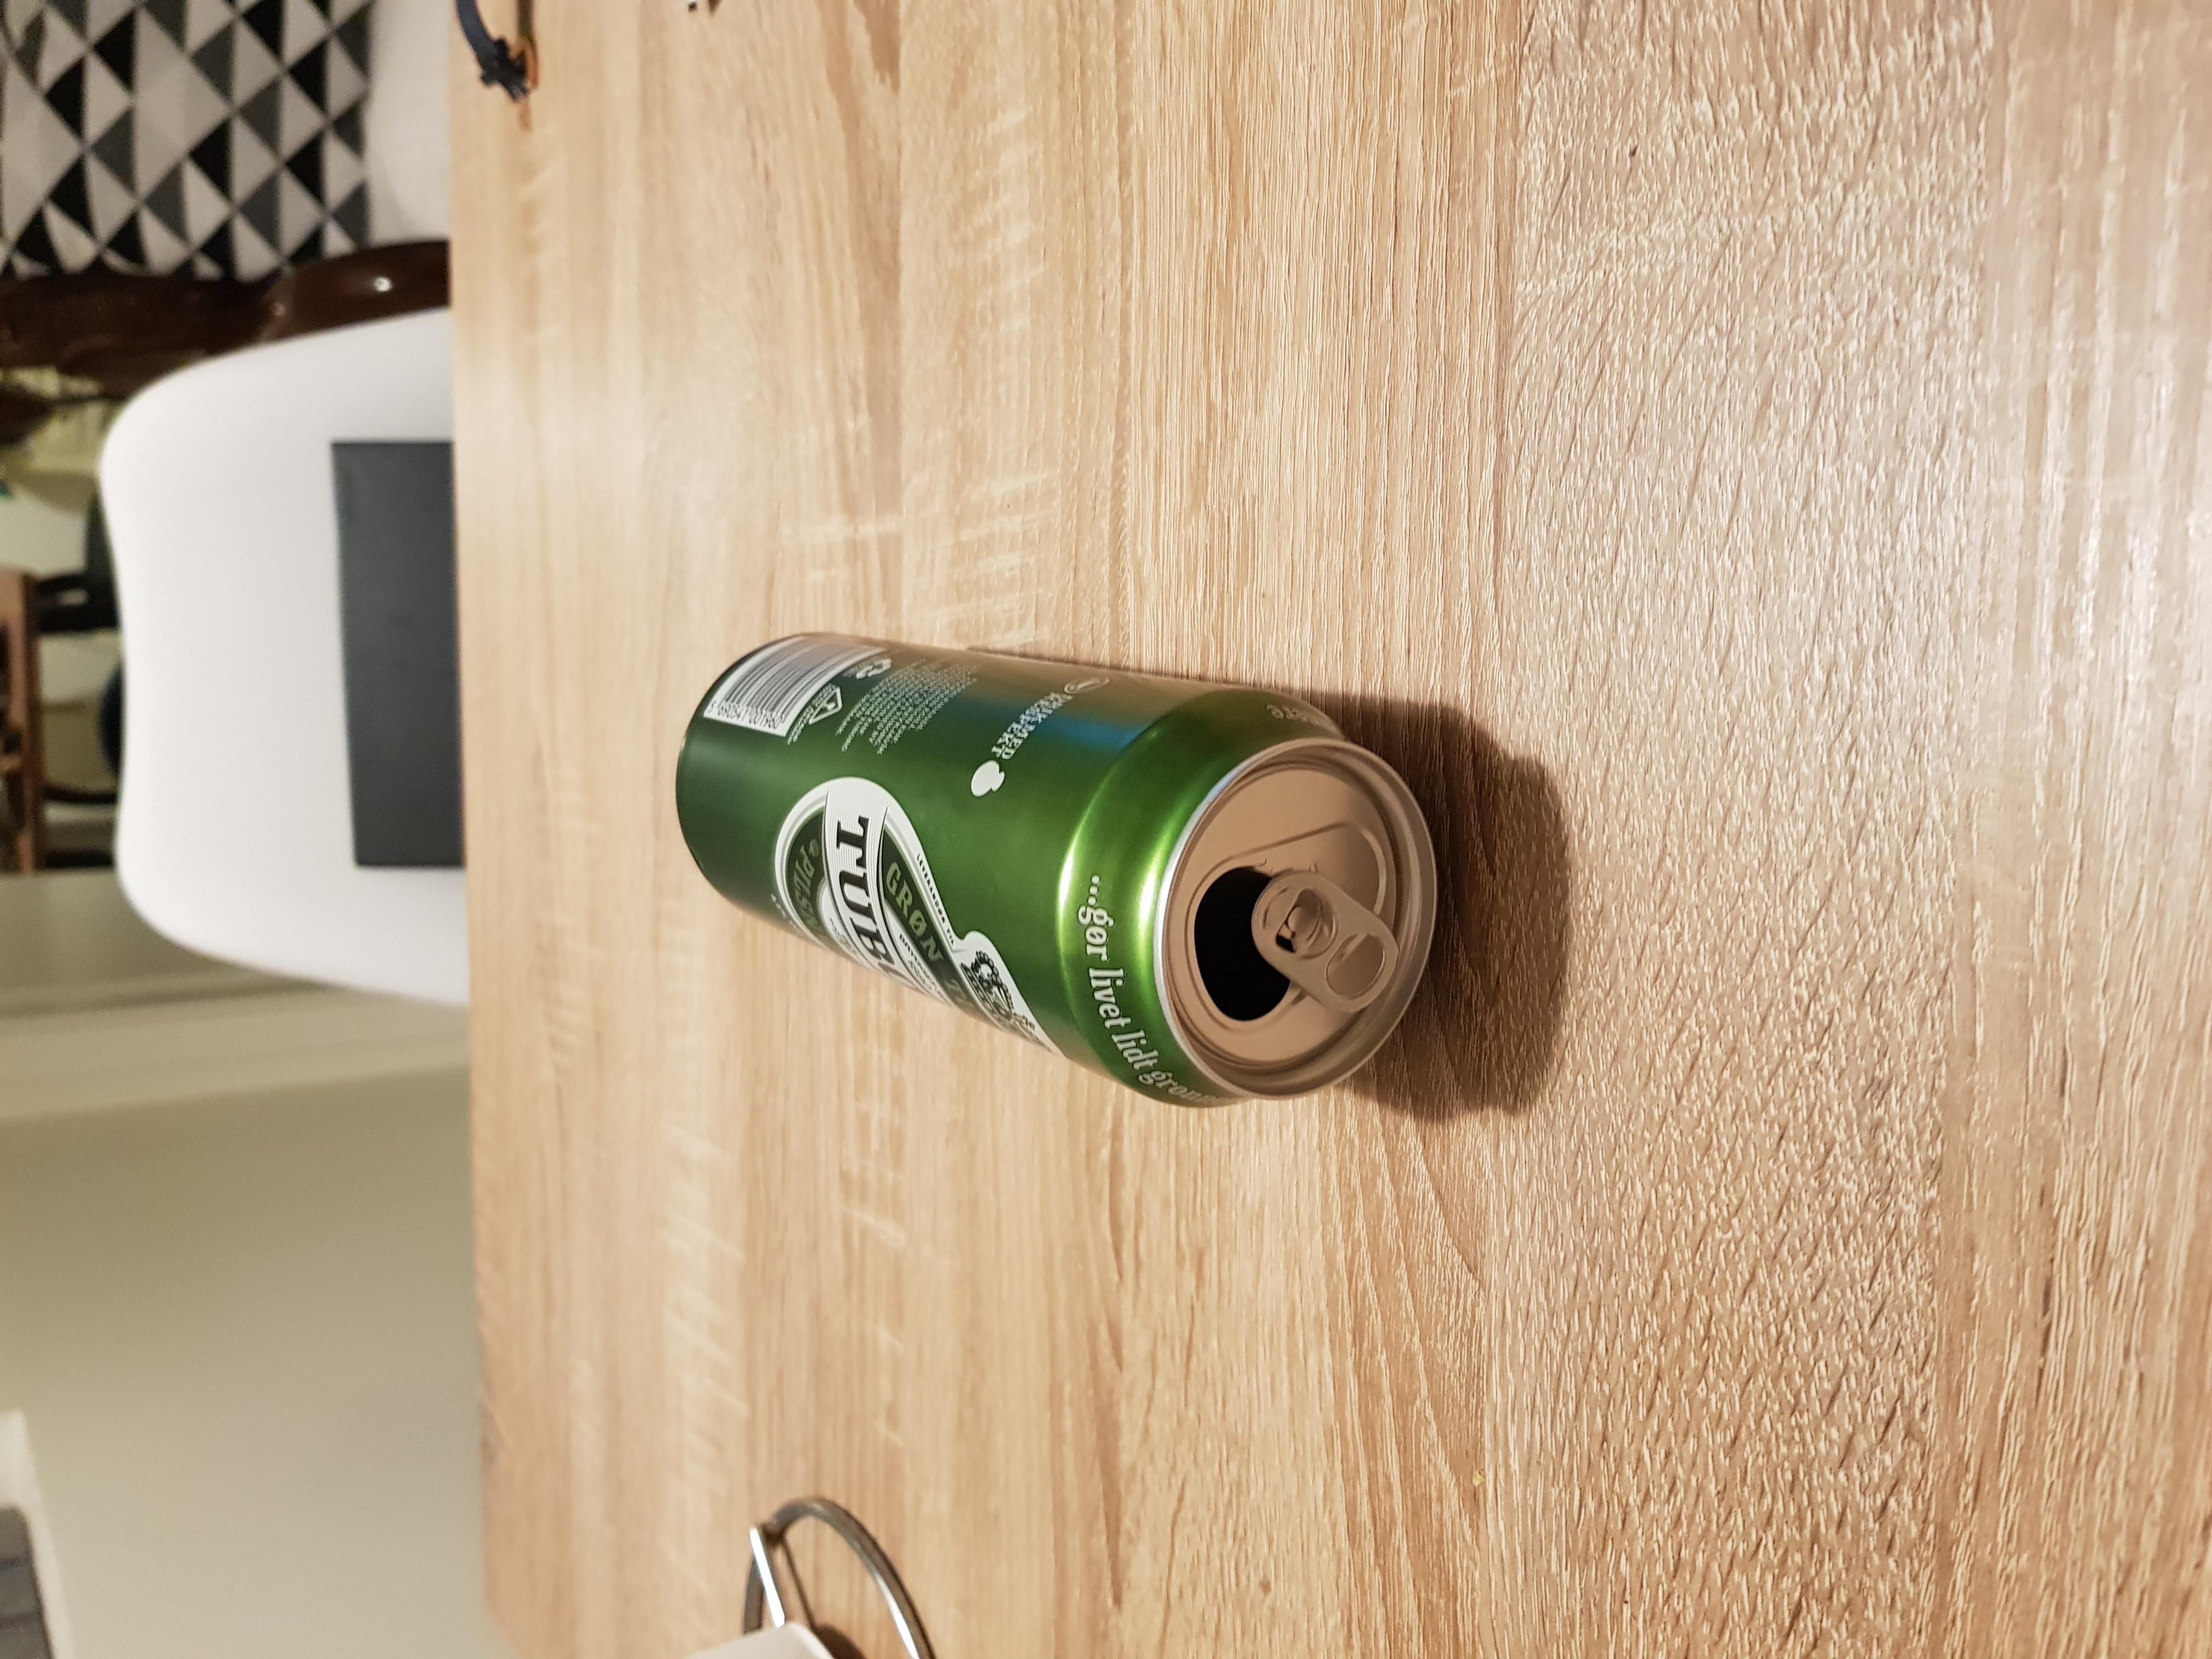Can: (672, 624, 1439, 1110)
